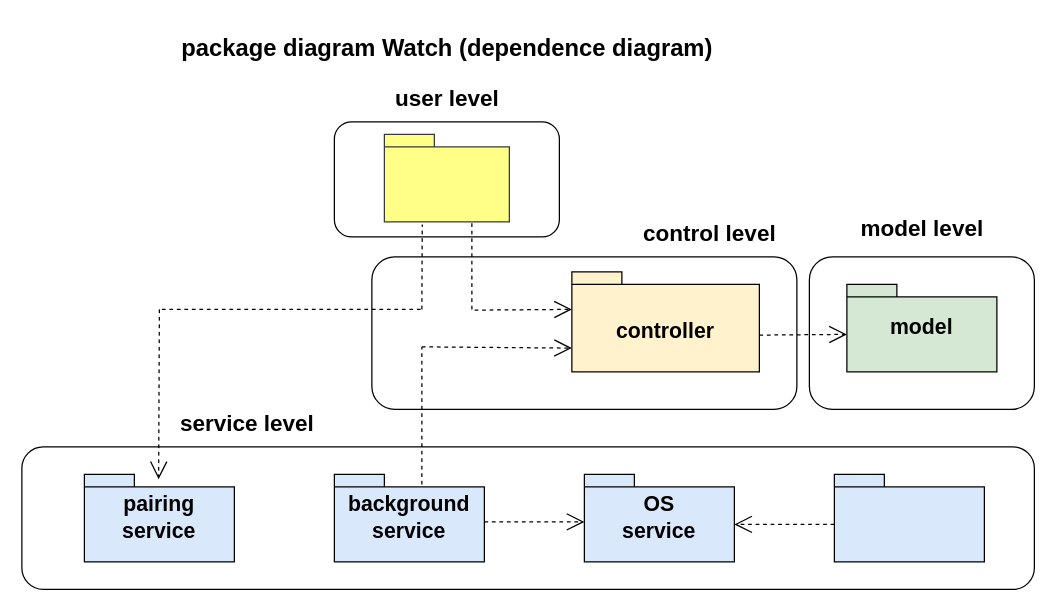
Some shapes in this 1056 by 611 pixel diagram are drawn without their labels. The shapes that lost their labels are listed below. From the top down, each one's box as (x1, y1, x2, y2) in pixels, then its label:
(383, 133, 509, 222): UI (pages)
(833, 473, 984, 562): watchId service
